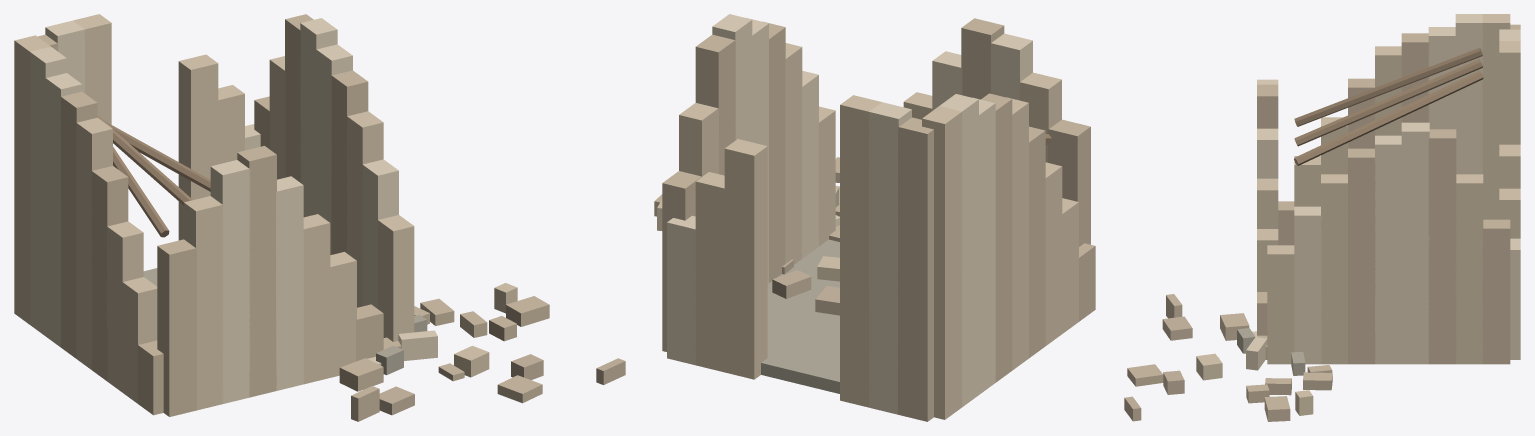
The model's file is tower.glb.
3 renders of one model, left to right at view 1: azimuth 30°, elevation 25°; view 2: azimuth 150°, elevation 25°; view 3: azimuth 270°, elevation 25°, orthographic. The views are drawn at different scales.
Visible parts, largest first — view 1: adobe3_27, adobe2_28, adobe2_25, adobe_26, adobe3_29, adobe_22, adobe3_2, adobe_1, adobe_5, adobe2_4, adobe3_3, adobe_30 (+34 smaller); view 2: adobe2_19, adobe_22, adobe3_20, adobe_1, adobe_21, stone_0, adobe_23, adobe3_2, adobe2_4, adobe3_3, adobe_5, adobe2_15 (+22 smaller); view 3: adobe2_12, adobe3_13, adobe3_14, adobe2_15, adobe_11, adobe_16, adobe3_17, adobe2_10, adobe_1, adobe3_2, adobe_18, adobe_21 (+29 smaller).
Boxes of the visible parts, x1,y1,x2,y2 form: adobe3_27: [210, 160, 250, 403]; adobe2_28: [237, 146, 276, 397]; adobe2_25: [157, 239, 196, 416]; adobe_26: [184, 196, 223, 410]; adobe3_29: [276, 176, 303, 390]; adobe_22: [178, 54, 218, 240]; adobe3_2: [30, 47, 66, 335]; adobe_1: [14, 35, 50, 324]; adobe_5: [76, 117, 112, 369]; adobe2_4: [60, 91, 97, 358]; adobe3_3: [45, 73, 82, 347]; adobe_30: [303, 214, 330, 384]; adobe2_19: [898, 117, 933, 421]; adobe_22: [724, 139, 767, 379]; adobe3_20: [869, 102, 911, 414]; adobe_1: [922, 106, 962, 419]; adobe_21: [840, 95, 881, 407]; stone_0: [761, 239, 839, 393]; adobe_23: [695, 172, 725, 372]; adobe3_2: [940, 94, 978, 406]; adobe2_4: [981, 93, 1012, 382]; adobe3_3: [973, 97, 995, 394]; adobe_5: [1006, 97, 1028, 370]; adobe2_15: [763, 21, 785, 282]; adobe2_12: [1428, 129, 1456, 364]; adobe3_13: [1401, 122, 1429, 364]; adobe3_14: [1375, 135, 1402, 364]; adobe2_15: [1348, 148, 1375, 364]; adobe_11: [1455, 174, 1483, 364]; adobe_16: [1321, 174, 1348, 364]; adobe3_17: [1294, 206, 1321, 364]; adobe2_10: [1482, 219, 1510, 364]; adobe_1: [1482, 14, 1510, 219]; adobe3_2: [1455, 14, 1483, 174]; adobe_18: [1267, 245, 1294, 364]; adobe_21: [1499, 41, 1520, 144].
Size of the model in its own units: 5.62 by 3.7 by 5.56.
